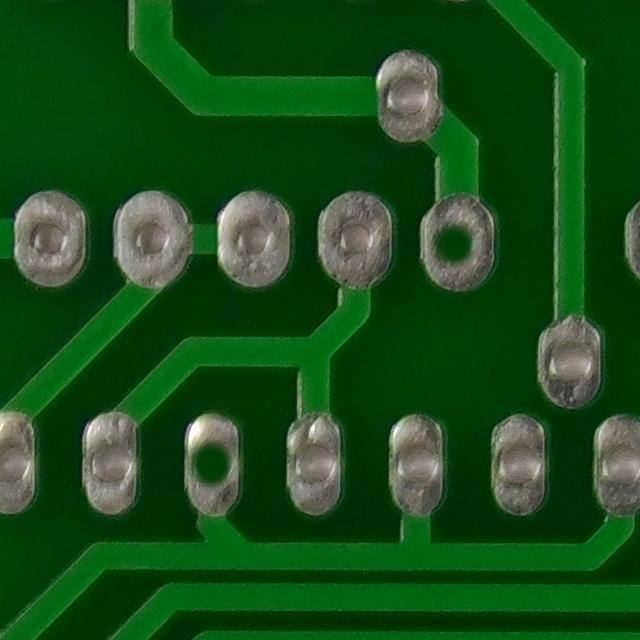missing_hole: (413, 207, 505, 289), (177, 430, 238, 504)
